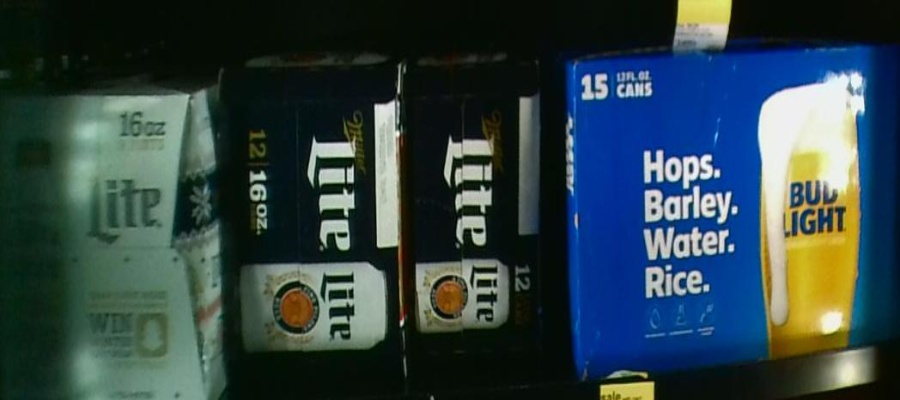bottle: (561, 52, 900, 371), (1, 51, 229, 398), (234, 52, 406, 394), (410, 52, 555, 388)
